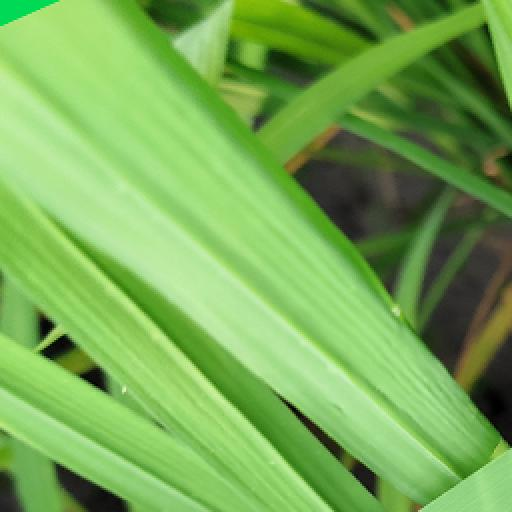Healthy Leaf: (2, 4, 502, 510)
